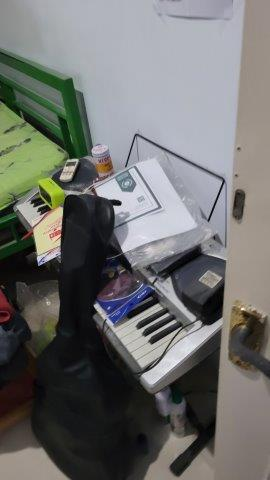kertas: (87, 157, 198, 254)
